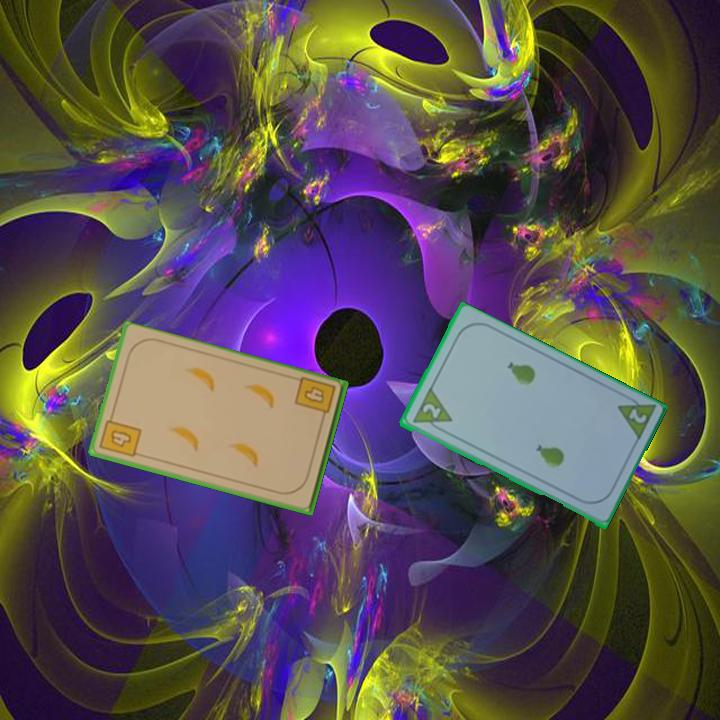2p: (418, 400, 443, 422), (624, 405, 649, 426)
4b: (96, 410, 144, 460), (291, 374, 338, 425)
